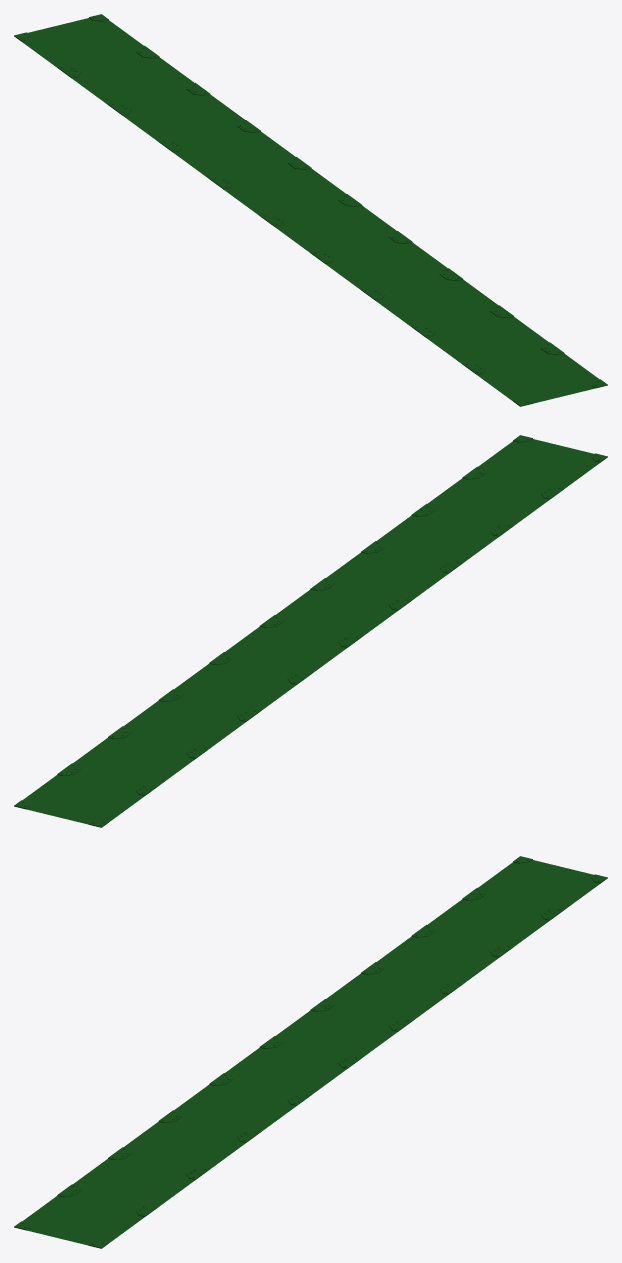
Rendered from industrialgGrid.dae.
3 views of the same model, one above another, from view 1: azimuth 30°, elevation 25°; view 2: azimuth 150°, elevation 25°; view 3: azimuth 330°, elevation 25° (orthographic).
Visible parts, largest first — view 1: corridor.001; view 2: corridor.001; view 3: corridor.001.
Part boxes in pixels (x1,y1,x2,y2): corridor.001: [14, 14, 607, 406]; corridor.001: [14, 435, 607, 827]; corridor.001: [14, 856, 607, 1248].
Size of the model in its own units: 1.6 by 16 by 0.0253.
